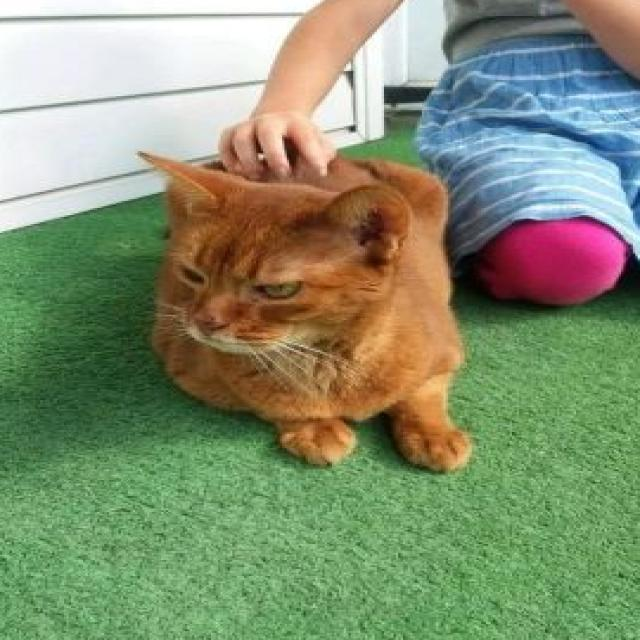Abyssinian: (126, 140, 481, 478)
